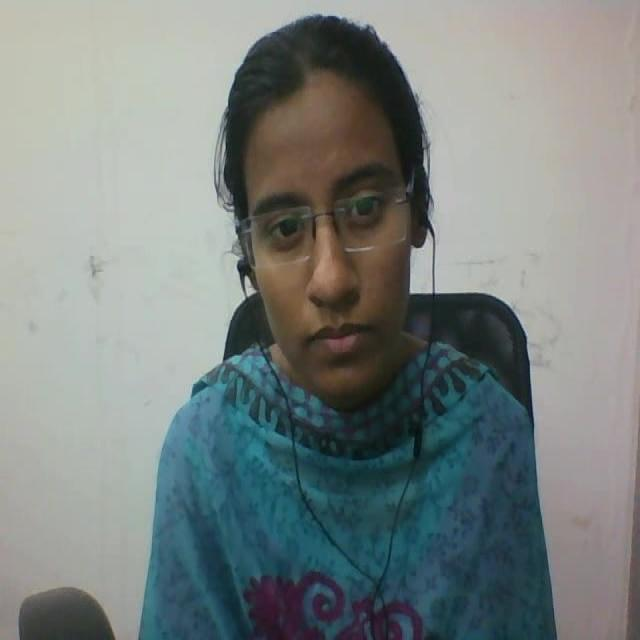Engaged: (201, 7, 449, 436)
